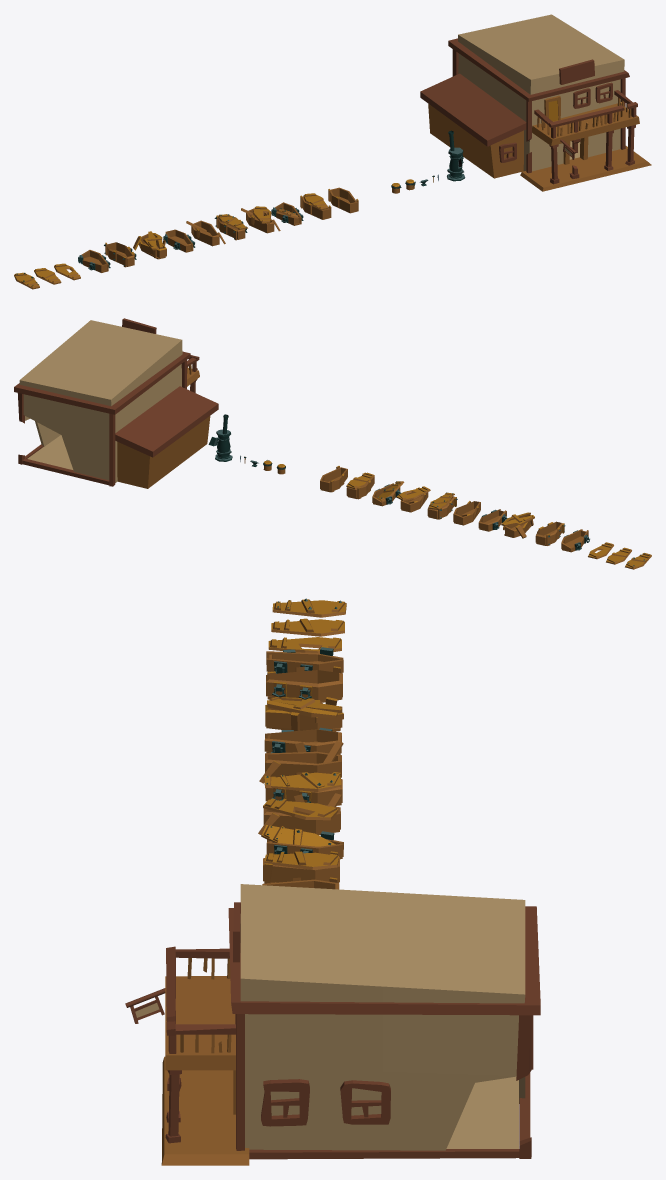
Rendered from semana_2.fbx.
The picture shows the model from 3 angles, top to bottom: view 1: azimuth 30°, elevation 25°; view 2: azimuth 150°, elevation 25°; view 3: azimuth 270°, elevation 25°; orthographic projection. The views are drawn at different scales.
Parts seen in each view (by area): view 1: banco_edificio, caixao_quatro.001, caixao_base_quebrado, caixao_base.001, caixao_tres.001, fornalha, caixao_quatro, caixao_base, caixao_tres, caixao_dois.001, caixao_um, caixao_dois; view 2: banco_edificio, caixao_base_quebrado, fornalha, caixao_quatro.001, caixao_tres.001, caixao_base.001, caixao_tres, caixao_base, caixao_dois.001, caixao_quatro, caixao_dois, caixao_um; view 3: banco_edificio, caixao_base_quebrado, caixao_quatro.001, caixao_tres, caixao_base.001, caixao_tres.001, caixao_quatro, caixao_dois.001, caixao_um, caixao_dois, caixao_um_tampa.001, caixao_base_tampa.001 (+1 smaller).
Part boxes in pixels (x1,y1,x2,y2): banco_edificio: (420,14,651,191); caixao_quatro.001: (241,206,280,233); caixao_base_quebrado: (133,231,166,259); caixao_base.001: (300,193,331,219); caixao_tres.001: (214,214,247,240); fornalha: (447,130,465,181); caixao_quatro: (186,220,225,246); caixao_base: (328,187,358,213); caixao_tres: (104,242,136,267); caixao_dois.001: (271,202,303,225); caixao_um: (163,229,195,252); caixao_dois: (78,250,110,272); banco_edificio: (14,318,218,488); caixao_base_quebrado: (501,512,534,538); fornalha: (208,414,232,461); caixao_quatro.001: (396,486,430,512); caixao_tres.001: (427,492,457,519); caixao_base.001: (346,472,374,499); caixao_tres: (535,521,565,545); caixao_base: (320,466,347,492); caixao_dois.001: (372,481,404,506); caixao_quatro: (453,501,480,525); caixao_dois: (561,529,589,552); caixao_um: (478,509,507,531); banco_edificio: (125,884,540,1165); caixao_base_quebrado: (265,697,343,731); caixao_quatro.001: (258,793,341,835); caixao_tres: (266,666,342,702); caixao_base.001: (263,851,339,883); caixao_tres.001: (264,772,342,805); caixao_quatro: (259,741,343,783); caixao_dois.001: (261,825,343,859); caixao_um: (264,727,341,754); caixao_dois: (266,647,343,673); caixao_um_tampa.001: (272,598,346,617); caixao_base_tampa.001: (271,618,344,636).
Size of the model in its own units: 5863 by 961 by 1819.
